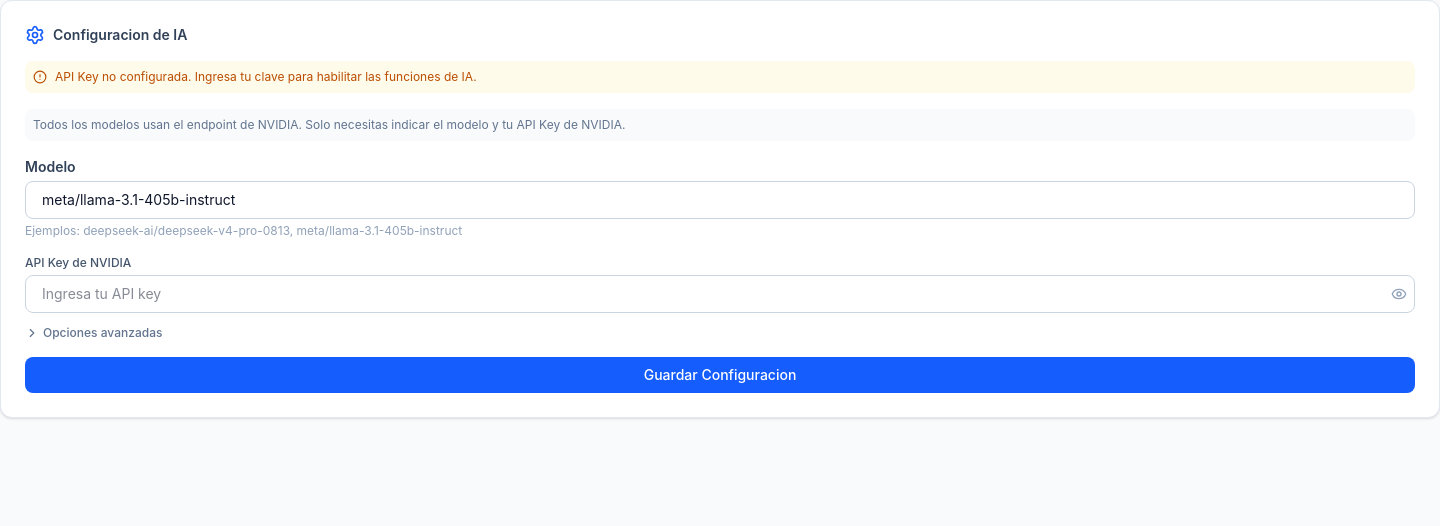
Test: AIConfig › defaults the base URL to the NVIDIA endpoint when the backend returns none
Click the button "Opciones avanzadas" at (94, 333), box [25,325,162,341]
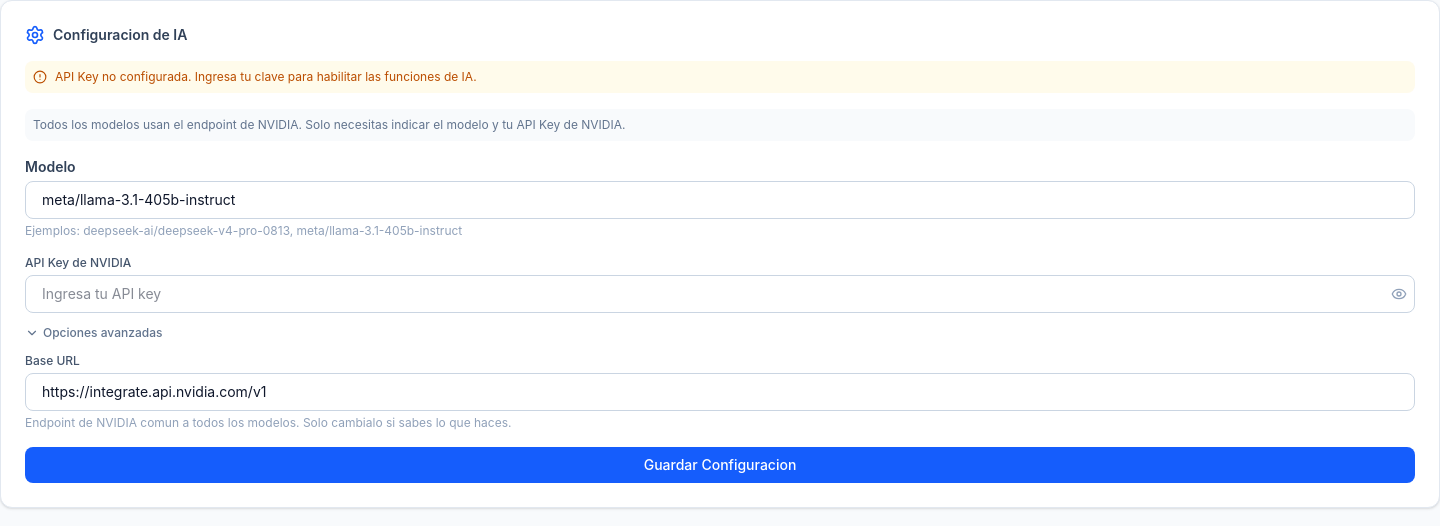
Result: the field with placeholder "https://integrate.api.nvidia.com/v1" below "Base URL" holds "https://integrate.api.nvidia.com/v1" at [25,373,1415,411]
